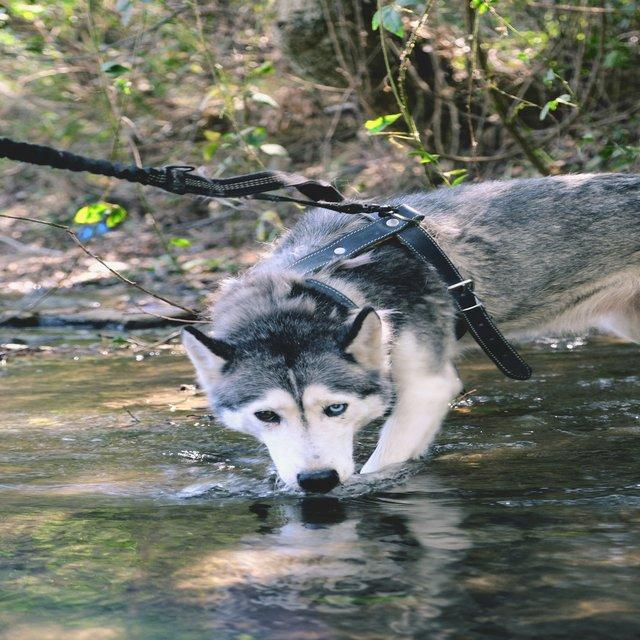husky: (180, 169, 639, 495)
